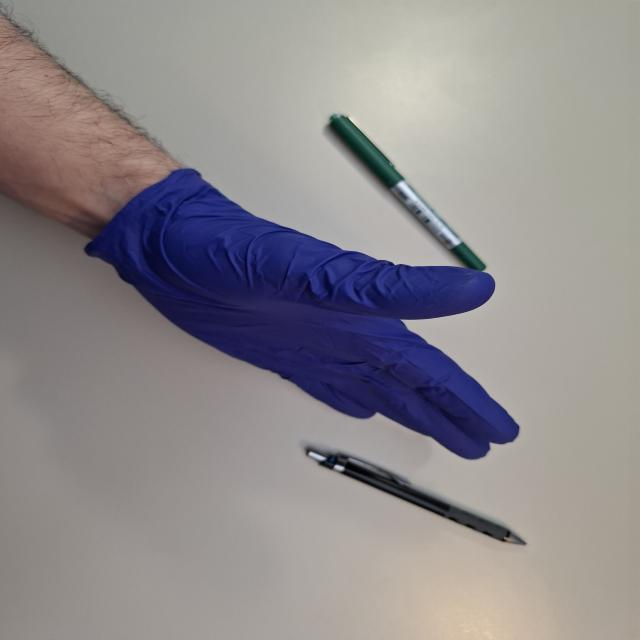glove_on: (72, 164, 525, 464)
